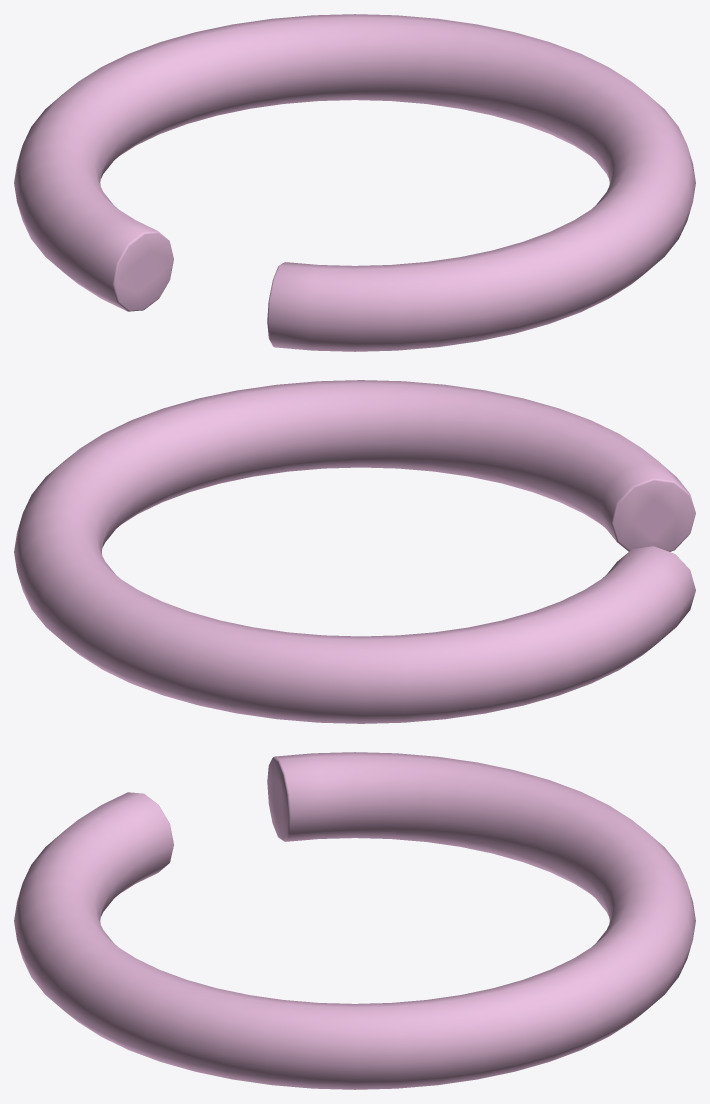
File: circulos2.fbx
3 renders of one model, top to bottom at view 1: azimuth 30°, elevation 25°; view 2: azimuth 150°, elevation 25°; view 3: azimuth 270°, elevation 25°, orthographic.
Visible parts, largest first — view 1: Circulo1; view 2: Circulo1; view 3: Circulo1.
Boxes of the visible parts, x1,y1,x2,y2 form: Circulo1: (14,14,695,351); Circulo1: (14,380,695,723); Circulo1: (14,752,695,1089).
Bounding box in the file's own units: 3764 × 476 × 3764.
